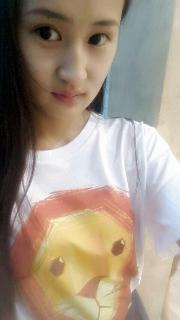short sleeve top: (0, 110, 180, 320)
